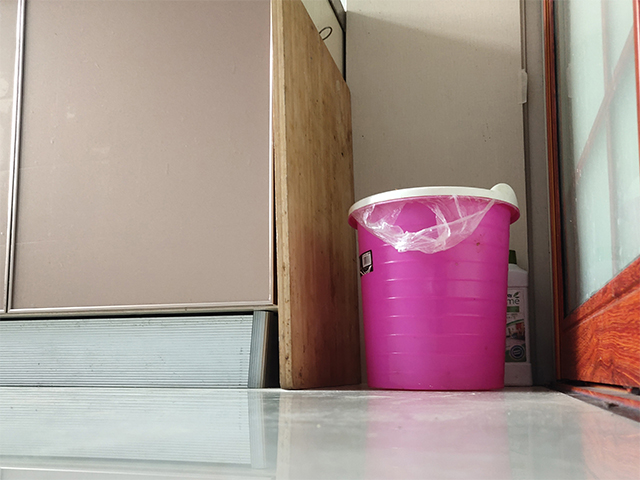cabinet: (1, 1, 349, 391)
trashcan: (345, 181, 522, 393)
